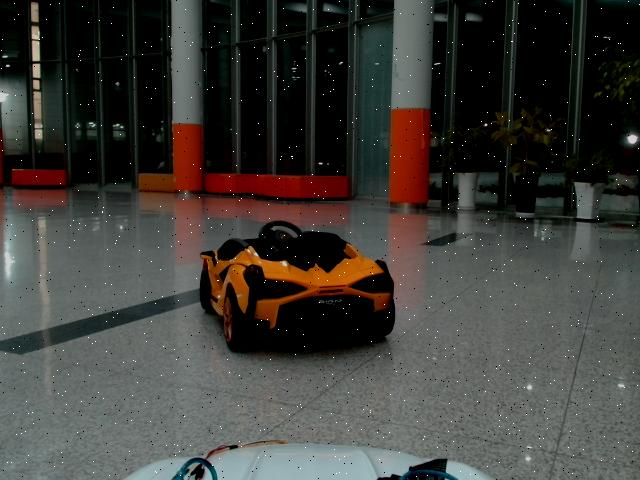car: (199, 221, 396, 351)
